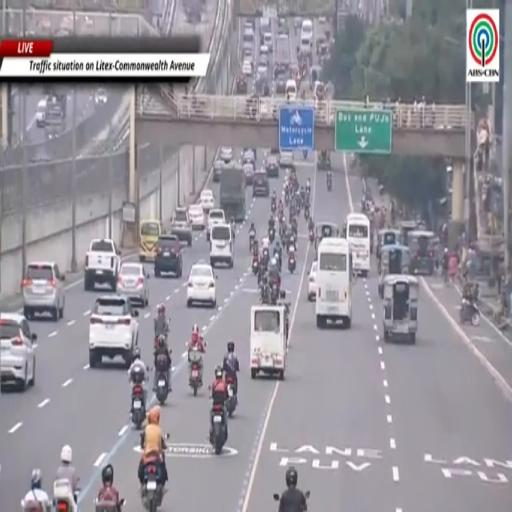bus: (316, 238, 353, 328), (345, 214, 371, 277)
car: (89, 294, 138, 369), (0, 313, 37, 390), (23, 262, 65, 321), (117, 262, 149, 307), (187, 263, 216, 307), (154, 234, 182, 277), (210, 223, 234, 267), (171, 207, 192, 246), (207, 208, 226, 242), (253, 169, 269, 197), (189, 204, 205, 230), (36, 98, 48, 128), (308, 261, 317, 300), (200, 189, 214, 214), (265, 155, 279, 178), (279, 151, 294, 168), (213, 159, 224, 182), (243, 164, 254, 185), (236, 74, 247, 93), (219, 147, 232, 163), (95, 88, 107, 104), (276, 75, 286, 94), (242, 149, 255, 163), (242, 59, 252, 76), (241, 158, 255, 169), (257, 61, 267, 76), (243, 48, 252, 60)
jeepney: (383, 275, 419, 343), (378, 245, 410, 298), (408, 231, 438, 275), (376, 229, 401, 261), (315, 222, 339, 249), (399, 220, 418, 245)
motorcycle: (141, 460, 163, 511), (210, 406, 227, 455), (53, 479, 79, 511), (188, 348, 202, 396), (132, 383, 145, 429), (460, 299, 480, 326), (226, 377, 237, 418), (156, 372, 169, 405), (93, 499, 125, 511), (288, 246, 296, 273), (260, 286, 270, 305), (270, 284, 279, 305), (274, 250, 282, 272), (251, 254, 259, 275), (261, 248, 269, 268), (249, 231, 255, 252), (291, 216, 297, 235), (268, 228, 275, 243), (231, 220, 236, 239), (327, 176, 332, 191), (271, 199, 276, 214), (309, 229, 314, 243), (304, 206, 309, 220), (273, 493, 280, 502), (285, 191, 289, 205), (306, 186, 310, 198), (303, 150, 308, 159)
truck: (84, 239, 121, 292), (219, 164, 246, 222), (274, 35, 290, 65)
